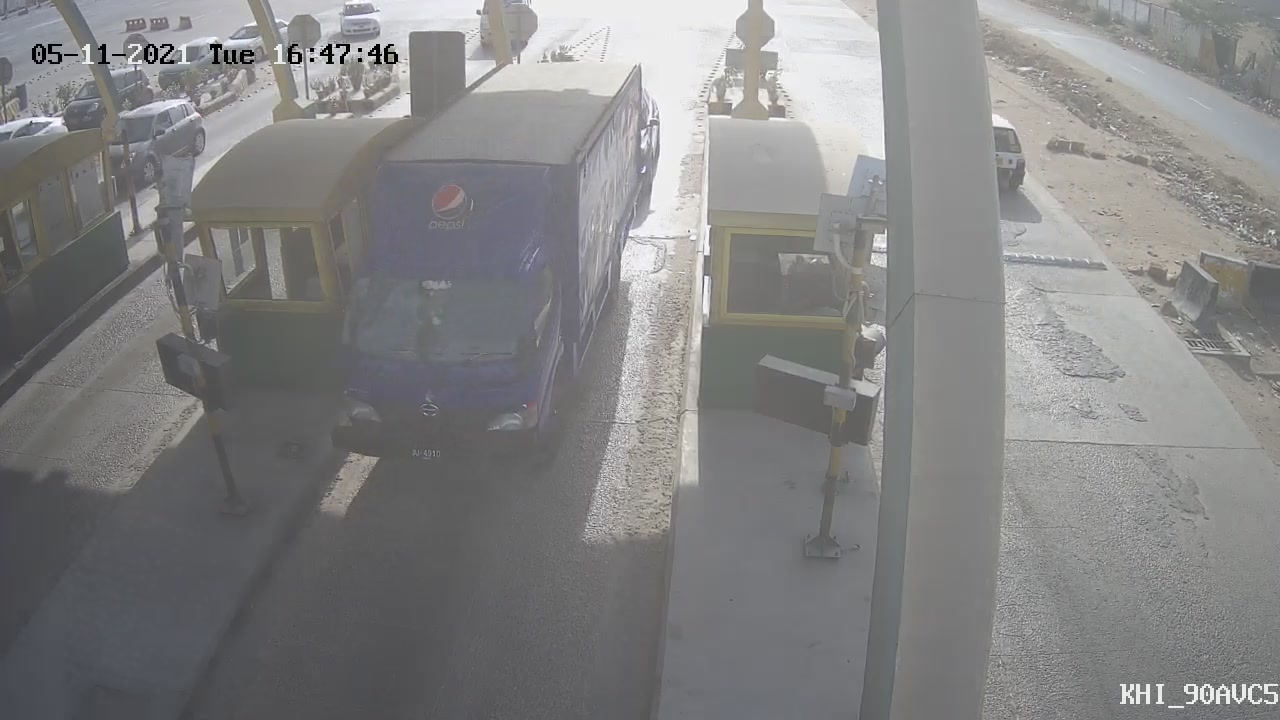F5: (287, 47, 673, 478)
